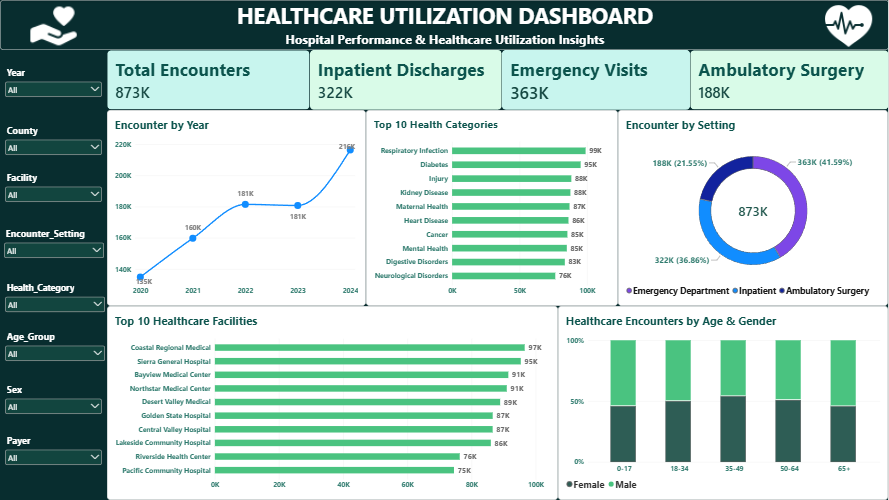

Layout of this report page (visuals, bound fields, positions):
{"tool":"powerbi","page":{"name":"Page 1","canvas":[1920,1080],"ordinal":0},"visuals":[{"type":"textbox","title":"HEALTHCARE UTILIZATION DASHBOARD","box":[0,0,1920,108.3],"z":0},{"type":"cardVisual","fields":{"Data":["Hospital_Utilization.Total Encounters"]},"box":[231.1,108,438.5,129.6],"z":1000},{"type":"cardVisual","fields":{"Data":["Hospital_Utilization.Inpatient Discharges"]},"box":[669.6,108,414.7,129.6],"z":2000},{"type":"cardVisual","fields":{"Data":["Hospital_Utilization.Emergency Visits"]},"box":[1084.3,108,406.1,129.6],"z":3000},{"type":"cardVisual","fields":{"Data":["Hospital_Utilization.Ambulatory Surgery"]},"box":[1490.4,108,429.8,129.6],"z":4000},{"type":"lineChart","title":" Encounter by Year","fields":{"Category":["Hospital_Utilization.Year"],"Y":["Sum(Hospital_Utilization.Encounter_Count)"]},"box":[231.1,237.6,559.4,423.4],"z":5000},{"type":"slicer","fields":{"Values":["Hospital_Utilization.Year"]},"box":[6.5,142.6,218.2,95],"z":6000},{"type":"clusteredBarChart","title":"Top 10 Health Categories","fields":{"Category":["Hospital_Utilization.Health_Category"],"Y":["Sum(Hospital_Utilization.Encounter_Count)"]},"box":[790.6,237.6,544.3,423.4],"z":7000},{"type":"donutChart","title":" Encounter by Setting","fields":{"Category":["Hospital_Utilization.Encounter_Setting"],"Y":["Sum(Hospital_Utilization.Encounter_Count)"]},"box":[1334.9,237.6,583.2,423.4],"z":8000},{"type":"clusteredBarChart","title":"Top 10 Healthcare Facilities","fields":{"Category":["Hospital_Utilization.Facility"],"Y":["Sum(Hospital_Utilization.Encounter_Count)"]},"box":[231.1,661,974.2,419],"z":9000},{"type":"hundredPercentStackedColumnChart","title":"Healthcare Encounters by Age & Gender","fields":{"Category":["Age_Group_Sort.Age_Group"],"Series":["Hospital_Utilization.Sex"],"Y":["Sum(Hospital_Utilization.Encounter_Count)"]},"box":[1205.3,661,712.8,419],"z":10000},{"type":"slicer","fields":{"Values":["Hospital_Utilization.County"]},"box":[6.5,267.8,218.2,101.5],"z":11000},{"type":"slicer","fields":{"Values":["Hospital_Utilization.Facility"]},"box":[6.5,369.4,218.2,97.2],"z":12000},{"type":"slicer","fields":{"Values":["Hospital_Utilization.Encounter_Setting"]},"box":[4.3,490.3,224.6,99.4],"z":13000},{"type":"slicer","fields":{"Values":["Hospital_Utilization.Health_Category"]},"box":[6.5,609.1,224.6,77.8],"z":14000},{"type":"slicer","fields":{"Values":["Hospital_Utilization.Age_Group"]},"box":[6.5,712.8,224.6,99.4],"z":15000},{"type":"slicer","fields":{"Values":["Hospital_Utilization.Sex"]},"box":[6.5,827.3,218.2,90.7],"z":16000},{"type":"slicer","fields":{"Values":["Hospital_Utilization.Payer"]},"box":[6.5,937.4,218.2,103.7],"z":17000},{"type":"image","box":[1782,0,101.5,108],"z":17001},{"type":"image","box":[38.9,0,155.5,112.3],"z":17002}]}

Visuals, with their boxes in screenshot pixels (x1, y1, x2, y2), scaled from the page's 1920x1080 canvas onto the 889x500 screenshot:
"HEALTHCARE UTILIZATION DASHBOARD" textbox: bbox=[0, 0, 888, 50]
cardVisual - Hospital_Utilization.Total Encounters: bbox=[107, 50, 310, 110]
cardVisual - Hospital_Utilization.Inpatient Discharges: bbox=[310, 50, 502, 110]
cardVisual - Hospital_Utilization.Emergency Visits: bbox=[502, 50, 690, 110]
cardVisual - Hospital_Utilization.Ambulatory Surgery: bbox=[690, 50, 888, 110]
" Encounter by Year" lineChart: bbox=[107, 110, 366, 306]
slicer - Hospital_Utilization.Year: bbox=[3, 66, 104, 110]
"Top 10 Health Categories" clusteredBarChart: bbox=[366, 110, 618, 306]
" Encounter by Setting" donutChart: bbox=[618, 110, 888, 306]
"Top 10 Healthcare Facilities" clusteredBarChart: bbox=[107, 306, 558, 499]
"Healthcare Encounters by Age & Gender" hundredPercentStackedColumnChart: bbox=[558, 306, 888, 499]
slicer - Hospital_Utilization.County: bbox=[3, 124, 104, 171]
slicer - Hospital_Utilization.Facility: bbox=[3, 171, 104, 216]
slicer - Hospital_Utilization.Encounter_Setting: bbox=[2, 227, 106, 273]
slicer - Hospital_Utilization.Health_Category: bbox=[3, 282, 107, 318]
slicer - Hospital_Utilization.Age_Group: bbox=[3, 330, 107, 376]
slicer - Hospital_Utilization.Sex: bbox=[3, 383, 104, 425]
slicer - Hospital_Utilization.Payer: bbox=[3, 434, 104, 482]
image: bbox=[825, 0, 872, 50]
image: bbox=[18, 0, 90, 52]
